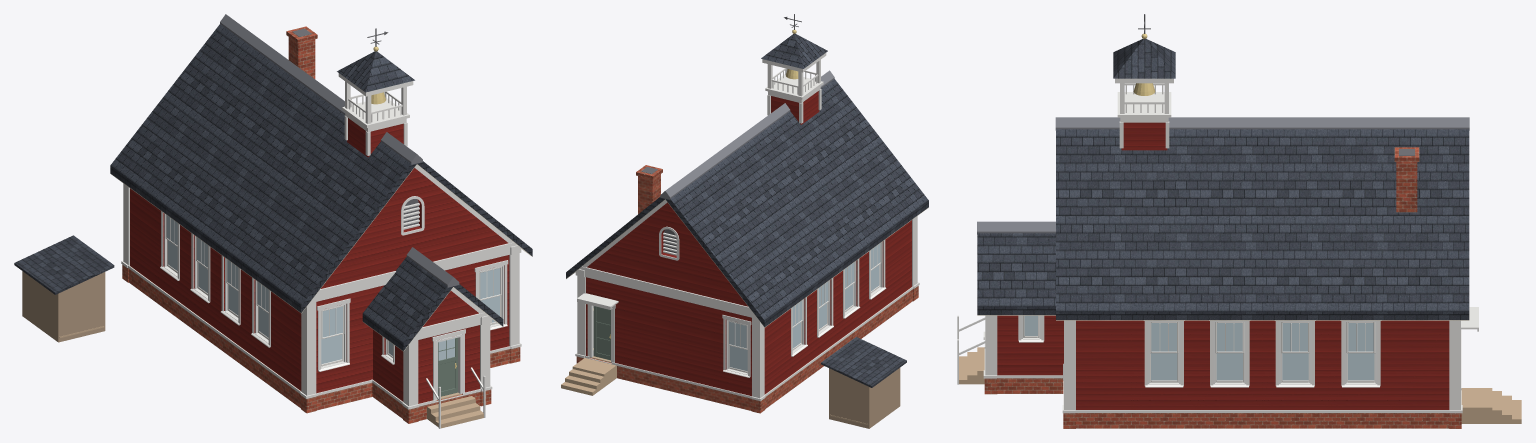
Rendered from building_assembled.glb.
3 views of the same model, side by side, from view 1: azimuth 30°, elevation 25°; view 2: azimuth 150°, elevation 25°; view 3: azimuth 270°, elevation 25° (orthographic). The views are drawn at different scales.
Visible parts, largest first — view 1: building_shingle, building_siding, building_trim, building_brick, building_glass, building_board, building_ridge, building_frame, building_sash, building_wood, building_door, building_plaster; view 2: building_shingle, building_siding, building_trim, building_brick, building_board, building_glass, building_ridge, building_wood, building_frame, building_sash, building_door, building_plaster; view 3: building_shingle, building_siding, building_trim, building_brick, building_glass, building_ridge, building_wood, building_sash, building_frame.
Part boxes in pixels (x1,y1,x2,y2): building_shingle: [14, 24, 532, 350]; building_siding: [130, 118, 509, 403]; building_trim: [121, 73, 521, 428]; building_brick: [122, 26, 520, 423]; building_glass: [166, 215, 500, 364]; building_board: [22, 271, 105, 342]; building_ridge: [220, 14, 459, 287]; building_frame: [164, 213, 503, 399]; building_sash: [165, 214, 501, 366]; building_wood: [59, 326, 483, 428]; building_door: [438, 337, 457, 396]; building_plaster: [110, 164, 532, 351]; building_shingle: [566, 34, 928, 387]; building_siding: [586, 91, 911, 396]; building_trim: [575, 53, 919, 401]; building_brick: [576, 165, 918, 413]; building_board: [829, 368, 900, 428]; building_glass: [729, 243, 880, 371]; building_ridge: [660, 70, 834, 199]; building_wood: [561, 358, 868, 424]; building_frame: [590, 242, 882, 374]; building_sash: [728, 243, 881, 372]; building_door: [593, 306, 610, 360]; building_plaster: [566, 199, 928, 327]; building_shingle: [977, 39, 1469, 319]; building_siding: [997, 122, 1449, 409]; building_trim: [957, 78, 1478, 413]; building_brick: [984, 147, 1461, 428]; building_glass: [1024, 315, 1374, 380]; building_ridge: [977, 117, 1469, 234]; building_wood: [959, 347, 1521, 423]; building_sash: [1023, 315, 1375, 382]; building_frame: [1021, 315, 1377, 384].
Size of the model in its own units: 13 by 12.05 by 17.21.
Materials: 17 (4 with a texture image).
